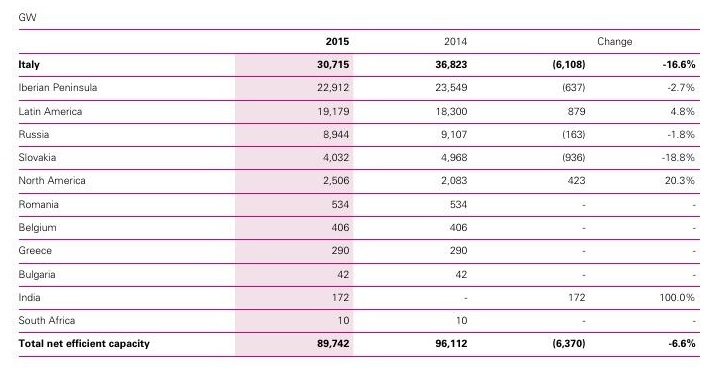table: (0, 0, 718, 373)
